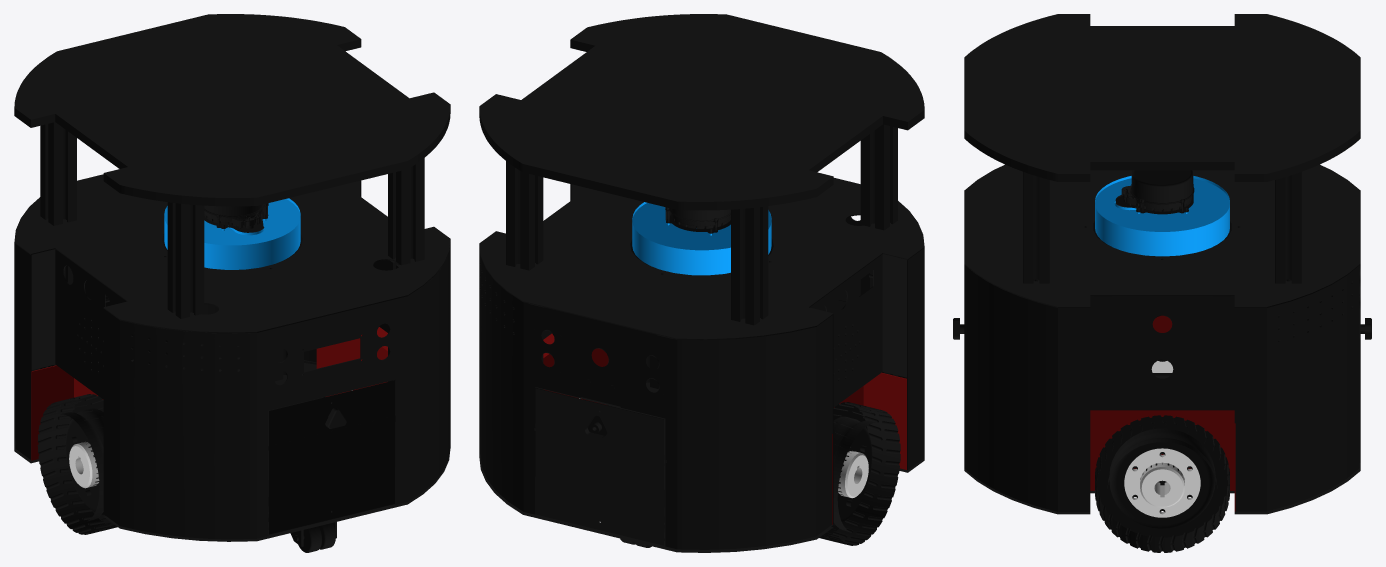
3 views of the same model, side by side, from view 1: azimuth 30°, elevation 25°; view 2: azimuth 150°, elevation 25°; view 3: azimuth 270°, elevation 25° (orthographic). The views are drawn at different scales.
Visible parts, largest first — view 1: Line004, 3E6A442E24197D1F6EB0B3520726E6C782C1D59B___B8A4396250C5687B1, 73DBF34768372A56C8AC2AD081C2ECC62E89CAAD___B8A4396250C5687B1, 143A2D8FBA5D7BA58E6AEAC1D4EC5CB0C7A4893F___B8A4396250C5687B1, 21A25F5C9890688935C617DABEC6DC45D766A3DC___B8A4396250C5687B1 (×3), 985728C4C31C77919CE09D8C72391E4A7EBFB65B___B8A4396250C5687B1, 51411E261A07FD88B7CE70E339B44B95E28C8A08___B8A4396250C5687B1, 41B9C1AFFF32373ADDCD29600B014157918FF0A0___B8A4396250C5687B1, 2F8A48532C33F024B43CBA03C5E952928857B70A___B8A4396250C5687B1 (×2), B1216407A8D5AE3B2B2B15A7DA6049013D8ED709___B8A4396250C5687B1, E60CA425C4E1F06282C4CDD4D85B32ECF6A1C52A___B8A4396250C5687B1, AC30C28EB234CE2F91EE97FB3C21E7C898D49977___B8A4396250C5687B1 (+5 smaller); view 2: Line004, 41B9C1AFFF32373ADDCD29600B014157918FF0A0___B8A4396250C5687B1, 73DBF34768372A56C8AC2AD081C2ECC62E89CAAD___B8A4396250C5687B1, 143A2D8FBA5D7BA58E6AEAC1D4EC5CB0C7A4893F___B8A4396250C5687B1, 21A25F5C9890688935C617DABEC6DC45D766A3DC___B8A4396250C5687B1 (×3), 985728C4C31C77919CE09D8C72391E4A7EBFB65B___B8A4396250C5687B1, 51411E261A07FD88B7CE70E339B44B95E28C8A08___B8A4396250C5687B1, 3E6A442E24197D1F6EB0B3520726E6C782C1D59B___B8A4396250C5687B1, 2F8A48532C33F024B43CBA03C5E952928857B70A___B8A4396250C5687B1 (×2), B1216407A8D5AE3B2B2B15A7DA6049013D8ED709___B8A4396250C5687B1, E60CA425C4E1F06282C4CDD4D85B32ECF6A1C52A___B8A4396250C5687B1, AC30C28EB234CE2F91EE97FB3C21E7C898D49977___B8A4396250C5687B1 (+3 smaller); view 3: Line004, 73DBF34768372A56C8AC2AD081C2ECC62E89CAAD___B8A4396250C5687B1, 3E6A442E24197D1F6EB0B3520726E6C782C1D59B___B8A4396250C5687B1, 41B9C1AFFF32373ADDCD29600B014157918FF0A0___B8A4396250C5687B1, DC5885A8E7802F2DBB8B16E943F0E65C905203F9___B8A4396250C5687B1, 51411E261A07FD88B7CE70E339B44B95E28C8A08___B8A4396250C5687B1, 21A25F5C9890688935C617DABEC6DC45D766A3DC___B8A4396250C5687B1 (×2), 83350271D4C451B3981E7B72E2AA1B143AD492F1___B8A4396250C5687B1, E60CA425C4E1F06282C4CDD4D85B32ECF6A1C52A___B8A4396250C5687B1, 2F8A48532C33F024B43CBA03C5E952928857B70A___B8A4396250C5687B1, B1216407A8D5AE3B2B2B15A7DA6049013D8ED709___B8A4396250C5687B1, 8062F66BCA0A2E3EFF9C422961D6A06A49E26B34___B8A4396250C5687B1 (+2 smaller).
Boxes of the visible parts, box(x1,y1,x2,y2) form: Line004: box(14, 14, 450, 206); 3E6A442E24197D1F6EB0B3520726E6C782C1D59B___B8A4396250C5687B1: box(103, 240, 450, 539); 73DBF34768372A56C8AC2AD081C2ECC62E89CAAD___B8A4396250C5687B1: box(14, 174, 450, 333); 143A2D8FBA5D7BA58E6AEAC1D4EC5CB0C7A4893F___B8A4396250C5687B1: box(269, 380, 395, 534); 21A25F5C9890688935C617DABEC6DC45D766A3DC___B8A4396250C5687B1 (×3): box(40, 122, 424, 318); 985728C4C31C77919CE09D8C72391E4A7EBFB65B___B8A4396250C5687B1: box(31, 249, 126, 399); 51411E261A07FD88B7CE70E339B44B95E28C8A08___B8A4396250C5687B1: box(37, 394, 117, 534); 41B9C1AFFF32373ADDCD29600B014157918FF0A0___B8A4396250C5687B1: box(14, 180, 361, 460); 2F8A48532C33F024B43CBA03C5E952928857B70A___B8A4396250C5687B1 (×2): box(31, 327, 387, 460); B1216407A8D5AE3B2B2B15A7DA6049013D8ED709___B8A4396250C5687B1: box(164, 217, 300, 269); E60CA425C4E1F06282C4CDD4D85B32ECF6A1C52A___B8A4396250C5687B1: box(164, 198, 300, 245); AC30C28EB234CE2F91EE97FB3C21E7C898D49977___B8A4396250C5687B1: box(14, 357, 450, 541); Line004: box(479, 14, 924, 210); 41B9C1AFFF32373ADDCD29600B014157918FF0A0___B8A4396250C5687B1: box(479, 246, 833, 550); 73DBF34768372A56C8AC2AD081C2ECC62E89CAAD___B8A4396250C5687B1: box(479, 178, 924, 340); 143A2D8FBA5D7BA58E6AEAC1D4EC5CB0C7A4893F___B8A4396250C5687B1: box(535, 388, 664, 545); 21A25F5C9890688935C617DABEC6DC45D766A3DC___B8A4396250C5687B1 (×3): box(506, 124, 897, 325); 985728C4C31C77919CE09D8C72391E4A7EBFB65B___B8A4396250C5687B1: box(810, 254, 906, 431); 51411E261A07FD88B7CE70E339B44B95E28C8A08___B8A4396250C5687B1: box(819, 402, 900, 545); 3E6A442E24197D1F6EB0B3520726E6C782C1D59B___B8A4396250C5687B1: box(570, 184, 924, 470); 2F8A48532C33F024B43CBA03C5E952928857B70A___B8A4396250C5687B1 (×2): box(543, 333, 906, 524); B1216407A8D5AE3B2B2B15A7DA6049013D8ED709___B8A4396250C5687B1: box(632, 221, 771, 275); E60CA425C4E1F06282C4CDD4D85B32ECF6A1C52A___B8A4396250C5687B1: box(632, 202, 771, 250); AC30C28EB234CE2F91EE97FB3C21E7C898D49977___B8A4396250C5687B1: box(479, 382, 924, 552); Line004: box(964, 14, 1360, 181); 73DBF34768372A56C8AC2AD081C2ECC62E89CAAD___B8A4396250C5687B1: box(964, 164, 1360, 307); 3E6A442E24197D1F6EB0B3520726E6C782C1D59B___B8A4396250C5687B1: box(964, 265, 1090, 511); 41B9C1AFFF32373ADDCD29600B014157918FF0A0___B8A4396250C5687B1: box(1234, 265, 1360, 511); DC5885A8E7802F2DBB8B16E943F0E65C905203F9___B8A4396250C5687B1: box(1090, 296, 1234, 410); 51411E261A07FD88B7CE70E339B44B95E28C8A08___B8A4396250C5687B1: box(1095, 415, 1229, 552); 21A25F5C9890688935C617DABEC6DC45D766A3DC___B8A4396250C5687B1 (×2): box(1023, 172, 1301, 283); 83350271D4C451B3981E7B72E2AA1B143AD492F1___B8A4396250C5687B1: box(1124, 448, 1200, 517); E60CA425C4E1F06282C4CDD4D85B32ECF6A1C52A___B8A4396250C5687B1: box(1095, 176, 1229, 231); 2F8A48532C33F024B43CBA03C5E952928857B70A___B8A4396250C5687B1: box(1090, 410, 1235, 511); B1216407A8D5AE3B2B2B15A7DA6049013D8ED709___B8A4396250C5687B1: box(1095, 201, 1229, 256); 8062F66BCA0A2E3EFF9C422961D6A06A49E26B34___B8A4396250C5687B1: box(1130, 170, 1194, 204).
Size of the model in its own units: 0.42 by 0.4673 by 0.465.
